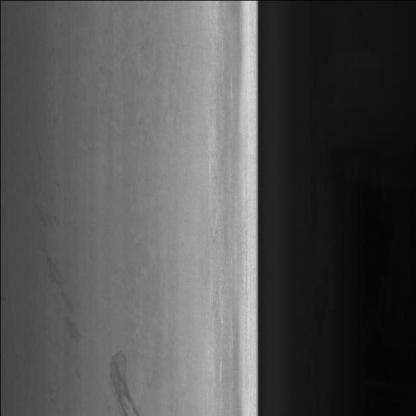water_spot: (32, 211, 81, 386), (100, 346, 143, 416)
